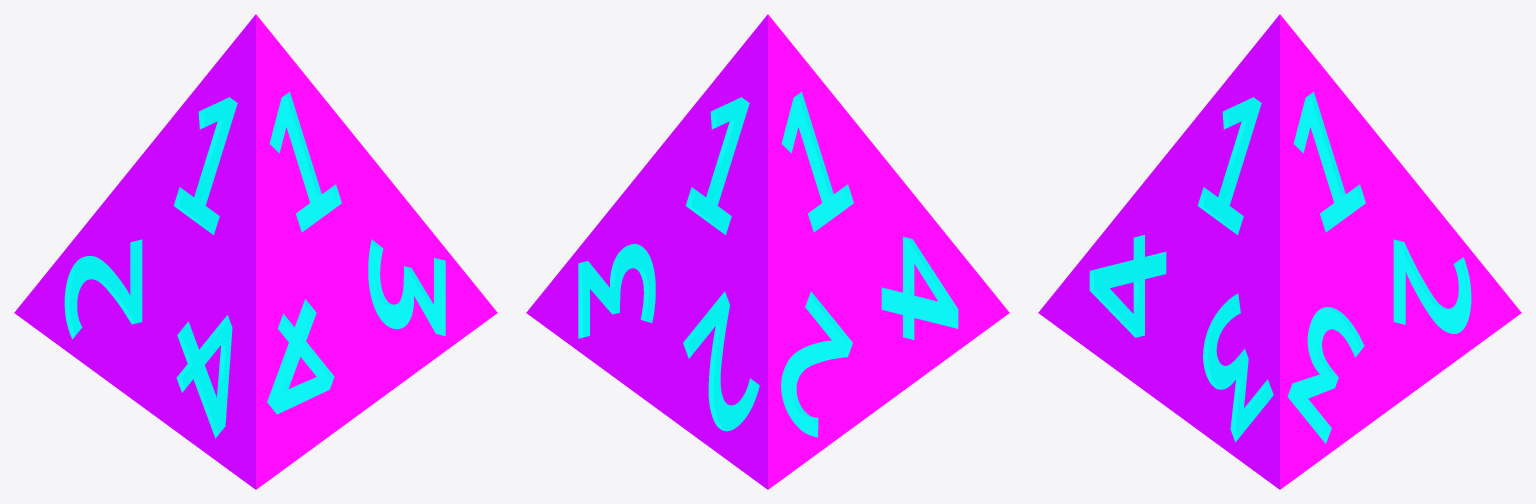
3 renders of one model, left to right at view 1: azimuth 30°, elevation 25°; view 2: azimuth 150°, elevation 25°; view 3: azimuth 270°, elevation 25°, orthographic.
Visible parts, largest first — view 1: d4.001; view 2: d4.001; view 3: d4.001.
Part boxes in pixels (x1,y1,x2,y2): d4.001: [14, 14, 497, 489]; d4.001: [526, 14, 1009, 489]; d4.001: [1038, 14, 1521, 489].
Size of the model in its own units: 1.41 by 1.33 by 1.63.
